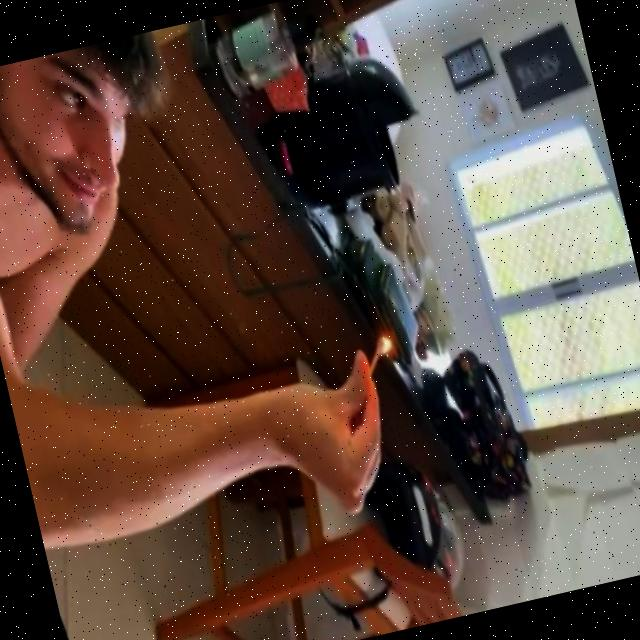fire: (366, 324, 398, 361)
